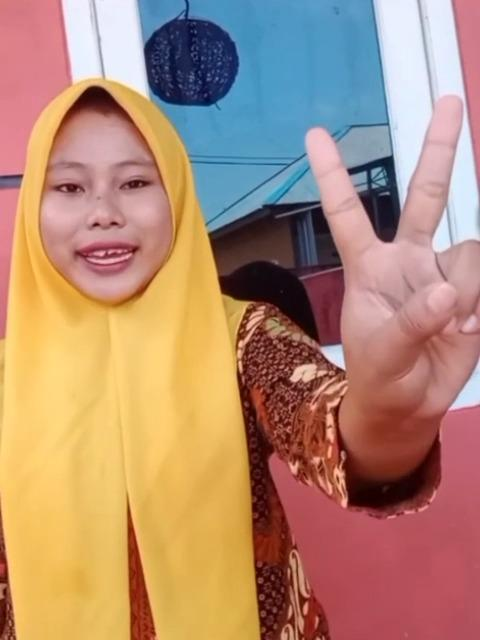V: (284, 87, 480, 445)
